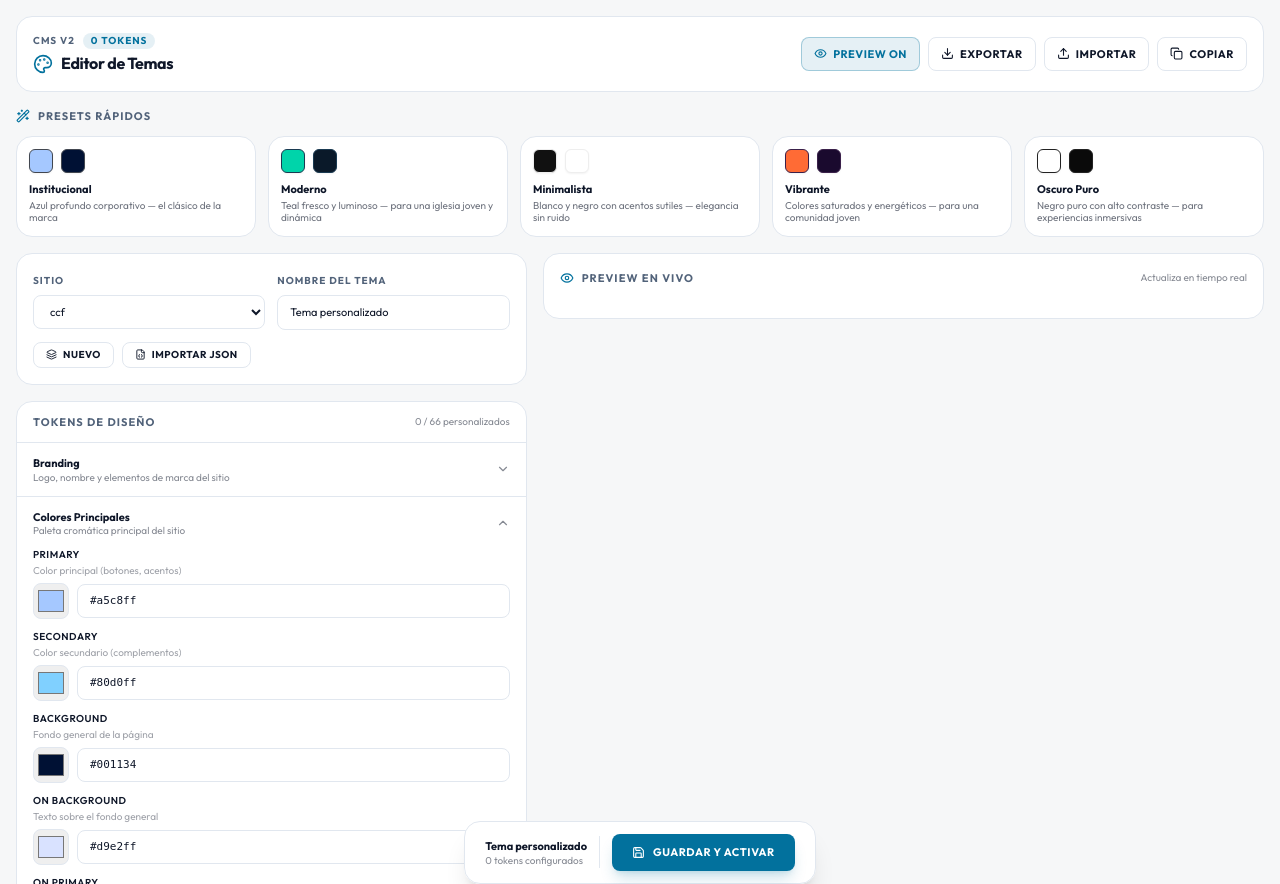
CmsThemesPage › guarda y activa un tema nuevo
Expected: the button "Guardar y activar" is shown, [612, 834, 795, 871]
Replace the text in the field showing "Tema personalizado" below "Nombre del tema" with "Tema Nuevo" at (393, 312), box [277, 295, 510, 330]
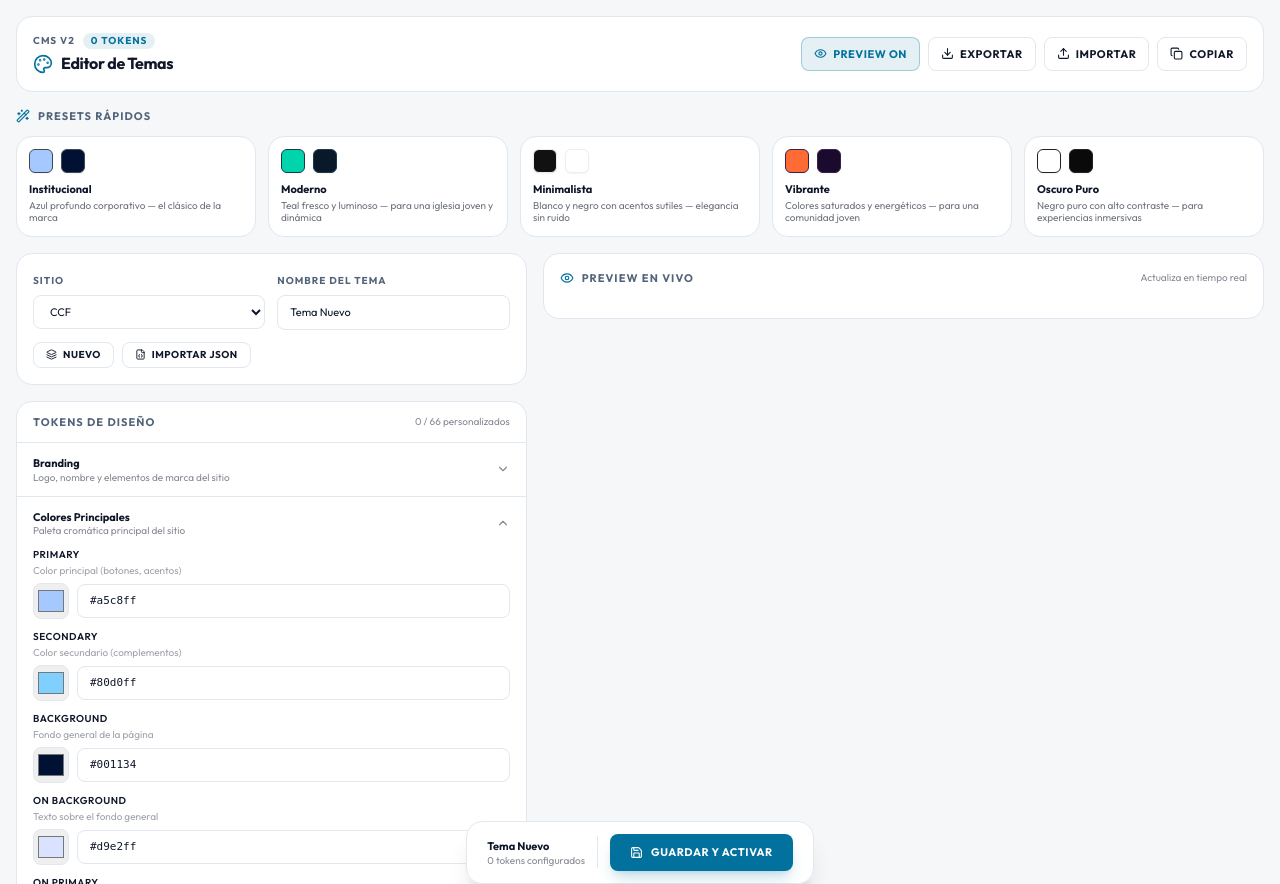
Click the button "Guardar y activar" at (701, 853), box [610, 834, 793, 871]
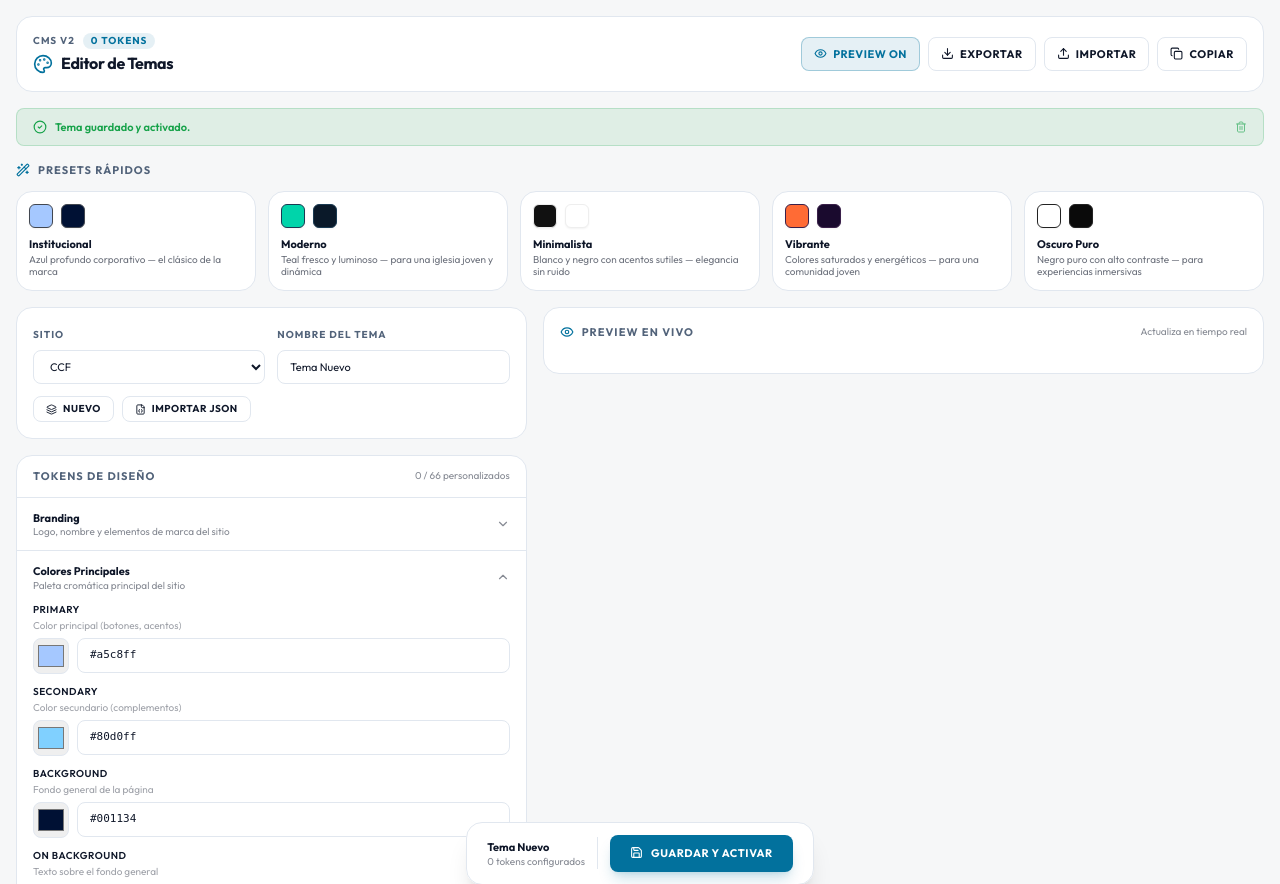
Expected: the text "Tema guardado y activado." is shown, [16, 108, 1264, 146]
